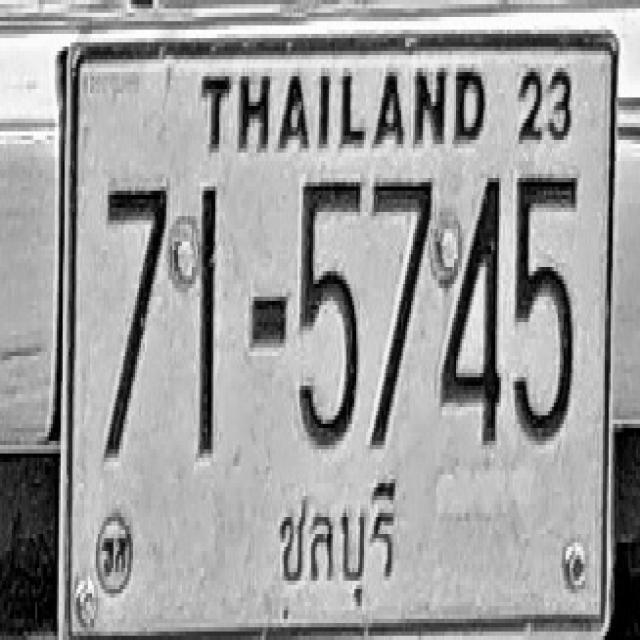1: (197, 185, 216, 452)
4: (438, 174, 501, 445)
5: (513, 172, 577, 443), (299, 176, 363, 447)
7: (105, 182, 167, 458), (370, 176, 432, 447)
Chonburi: (271, 470, 406, 614)
